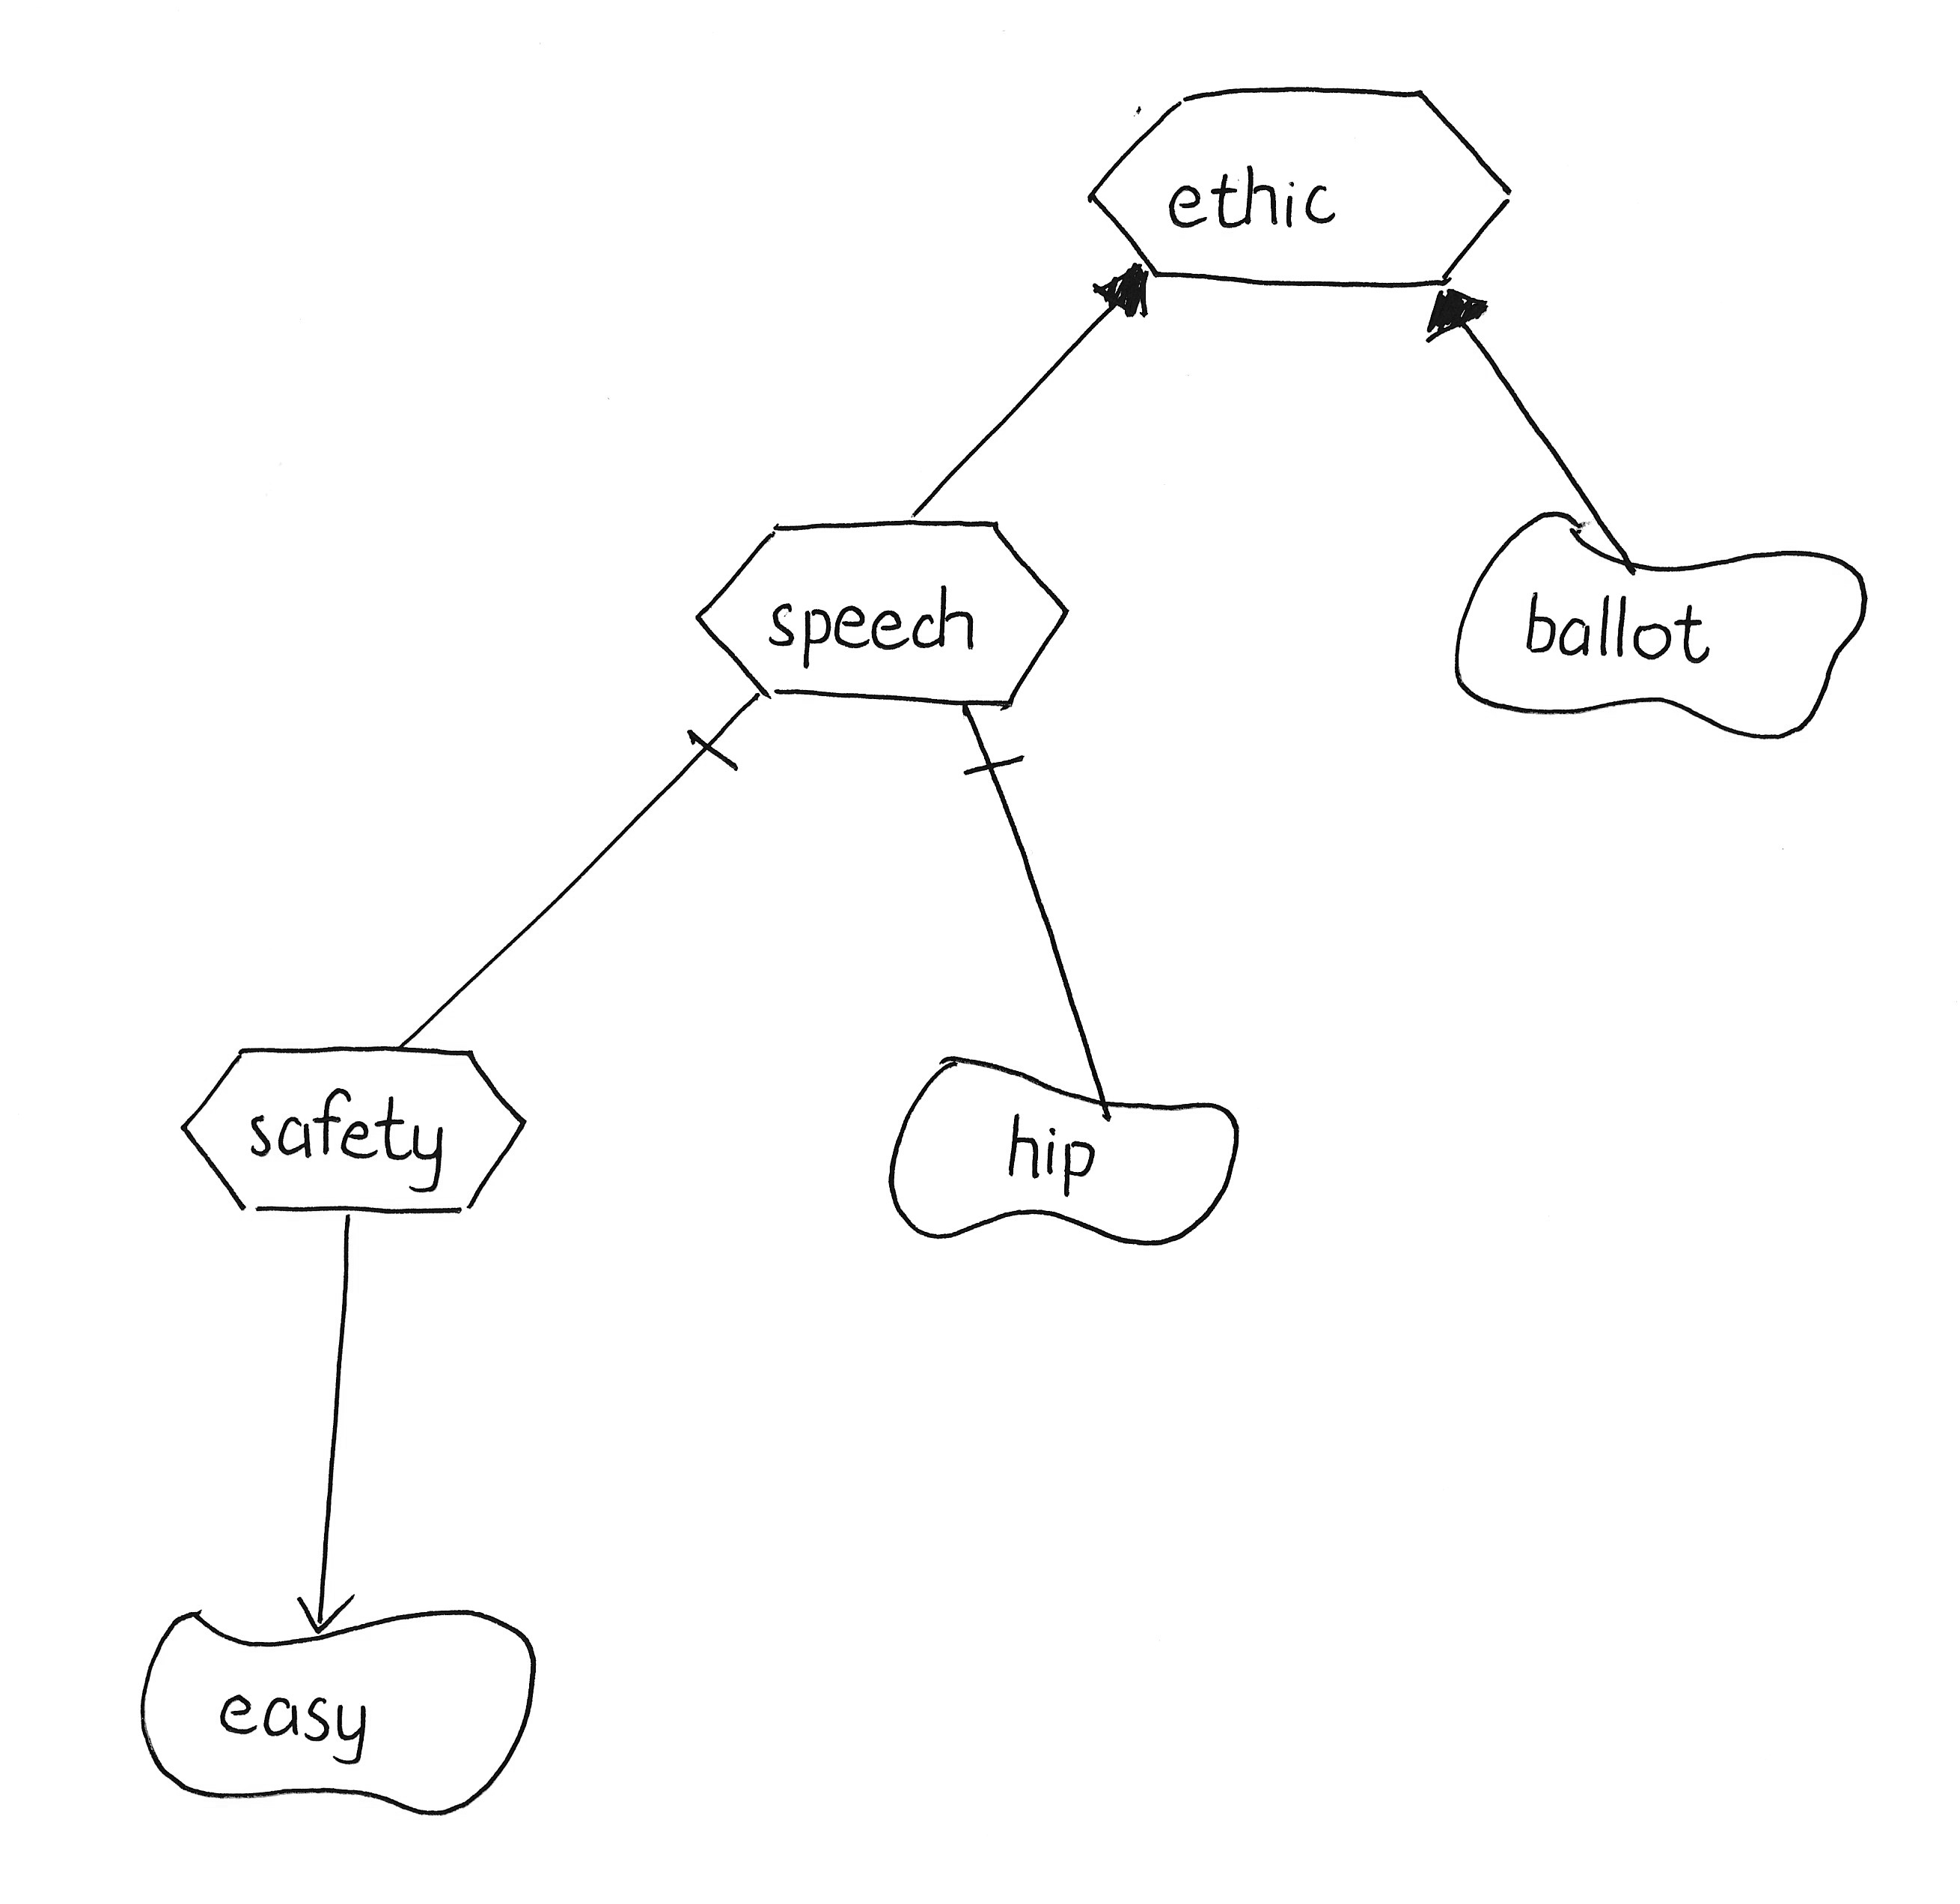and: (663, 702, 772, 810), (938, 712, 1045, 808)
arrow: (276, 1573, 371, 1647)
or: (1081, 247, 1167, 345), (1405, 275, 1505, 353)
quality: (1437, 497, 1883, 752), (122, 1589, 549, 1834), (864, 1034, 1258, 1262)
task: (1076, 68, 1535, 301), (684, 507, 1076, 730), (166, 1024, 539, 1237)
